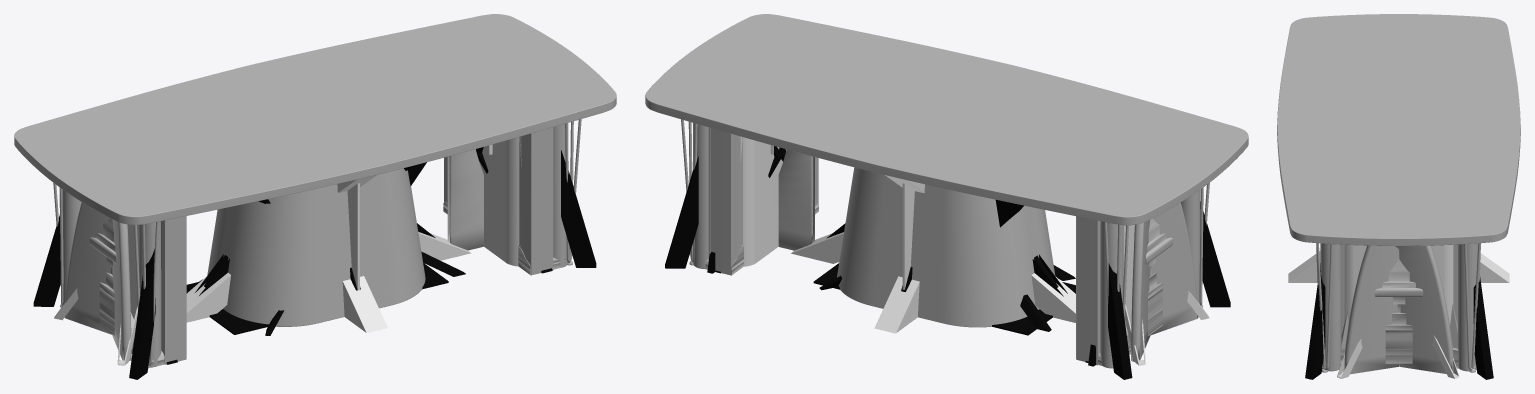
Rendered from Bootsform.glb.
The picture shows the model from 3 angles, left to right: view 1: azimuth 30°, elevation 25°; view 2: azimuth 150°, elevation 25°; view 3: azimuth 270°, elevation 25°; orthographic projection. The views are drawn at different scales.
Visible parts, largest first — view 1: bootsform_Table_Top_240, bootsform_Fluted - WOOD_240, bootsform_Triple_240, bootsform_U Shape_240, bootsform_Diagonal Pole_240, bootsform_Ovale Tischgestelle aus Eiche-Stäbchenholz (Satz)_, bootsform_Pillars - WOOD_240, bootsform_Hairpin_240, bootsform_Blok - WOOD_240, bootsform_Spider Gestell (rund)_240, bootsform_Spider Tischgestell (L)_240, bootsform_V shape_240 (+4 smaller); view 2: bootsform_Table_Top_240, bootsform_Fluted - WOOD_240, bootsform_Triple_240, bootsform_U Shape_240, bootsform_Diagonal Pole_240, bootsform_Ovale Tischgestelle aus Eiche-Stäbchenholz (Satz)_, bootsform_Pillars Metal_240, bootsform_Hairpin_240, bootsform_Blok - WOOD_240, bootsform_Spider Tischgestell Edelstahl_240, bootsform_Spider Gestell (rund)_240, bootsform_Pillars - WOOD_240 (+6 smaller); view 3: bootsform_Table_Top_240, bootsform_Triple_240, bootsform_Pillars - WOOD_240, bootsform_Blok - WOOD_240, bootsform_Diagonal Pole_240, bootsform_Ovale Tischgestelle aus Eiche-Stäbchenholz (Satz)_, bootsform_Hairpin_240, bootsform_Spider Gestell (rund)_240, bootsform_Drone Tischbeine (Satz)_240, bootsform_Double Fluted - WOOD_240, bootsform_Butterfly Wood_240.
Boxes of the visible parts, <box> form: bootsform_Table_Top_240: <box>14,14,616,224</box>; bootsform_Fluted - WOOD_240: <box>207,168,425,326</box>; bootsform_Triple_240: <box>64,149,483,360</box>; bootsform_U Shape_240: <box>167,128,551,361</box>; bootsform_Diagonal Pole_240: <box>33,150,596,379</box>; bootsform_Ovale Tischgestelle aus Eiche-Stäbchenholz (Satz)_: <box>127,137,519,319</box>; bootsform_Pillars - WOOD_240: <box>61,123,568,366</box>; bootsform_Hairpin_240: <box>53,119,581,368</box>; bootsform_Blok - WOOD_240: <box>89,202,565,367</box>; bootsform_Spider Gestell (rund)_240: <box>337,175,387,332</box>; bootsform_Spider Tischgestell (L)_240: <box>186,232,471,322</box>; bootsform_V shape_240: <box>186,162,448,334</box>; bootsform_Table_Top_240: <box>645,14,1248,225</box>; bootsform_Fluted - WOOD_240: <box>837,167,1055,327</box>; bootsform_Triple_240: <box>778,149,1198,361</box>; bootsform_U Shape_240: <box>711,128,1095,361</box>; bootsform_Diagonal Pole_240: <box>665,156,1230,379</box>; bootsform_Ovale Tischgestelle aus Eiche-Stäbchenholz (Satz)_: <box>743,137,1134,325</box>; bootsform_Pillars Metal_240: <box>696,124,1196,368</box>; bootsform_Hairpin_240: <box>681,119,1209,318</box>; bootsform_Blok - WOOD_240: <box>705,202,1173,365</box>; bootsform_Spider Tischgestell Edelstahl_240: <box>791,233,1075,322</box>; bootsform_Spider Gestell (rund)_240: <box>874,175,924,333</box>; bootsform_Pillars - WOOD_240: <box>693,123,1200,365</box>; bootsform_Table_Top_240: <box>1277,14,1520,245</box>; bootsform_Triple_240: <box>1343,245,1453,374</box>; bootsform_Pillars - WOOD_240: <box>1320,243,1478,371</box>; bootsform_Blok - WOOD_240: <box>1340,246,1458,368</box>; bootsform_Diagonal Pole_240: <box>1305,263,1493,379</box>; bootsform_Ovale Tischgestelle aus Eiche-Stäbchenholz (Satz)_: <box>1344,245,1453,365</box>; bootsform_Hairpin_240: <box>1316,243,1480,372</box>; bootsform_Spider Gestell (rund)_240: <box>1288,251,1509,282</box>; bootsform_Drone Tischbeine (Satz)_240: <box>1337,335,1459,378</box>; bootsform_Double Fluted - WOOD_240: <box>1341,244,1457,334</box>; bootsform_Butterfly Wood_240: <box>1341,303,1457,348</box>.
Bounding box in the file's own units: 2.4 × 0.7577 × 1.1.
Materials: 25 (1 with a texture image).
